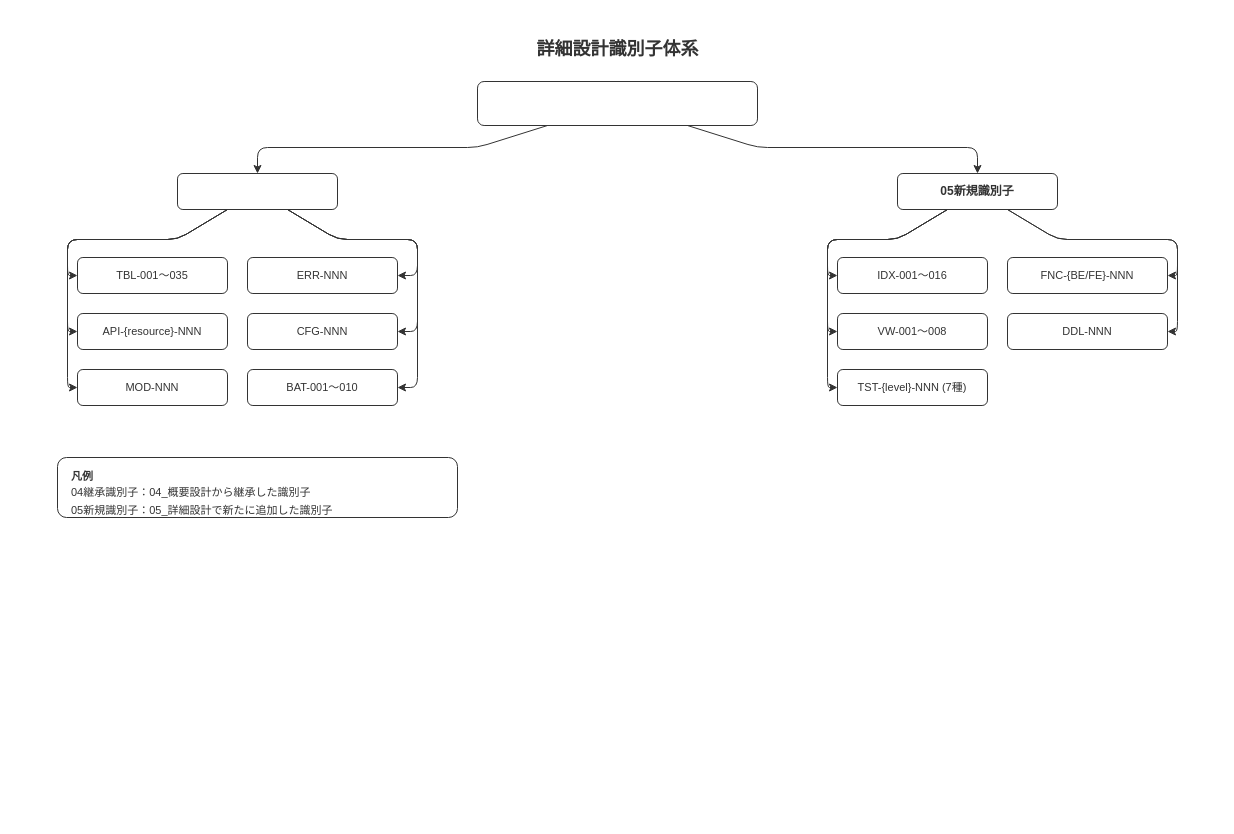
Some shapes in this 1234 by 834 pixel diagram are drawn without their labels. The shapes that lost their labels are listed below. From the top down, each one's centre as x and y in pixels, then its label:
At pixel 617 103: "05_詳細設計 識別子体系".
At pixel 257 191: "04継承識別子".
